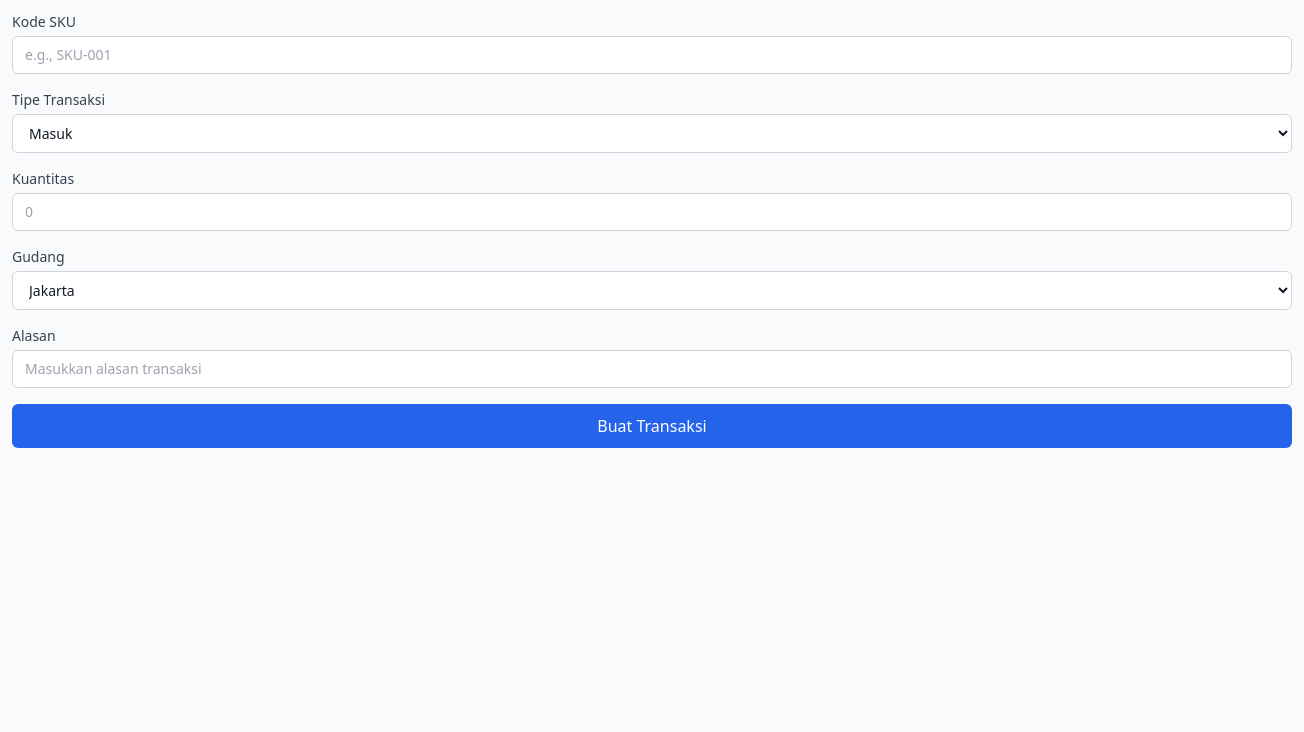
Test: TransactionForm › should validate required fields
Click the button "Buat Transaksi" at coordinates (652, 426), box x1=12 y1=404 x2=1292 y2=448
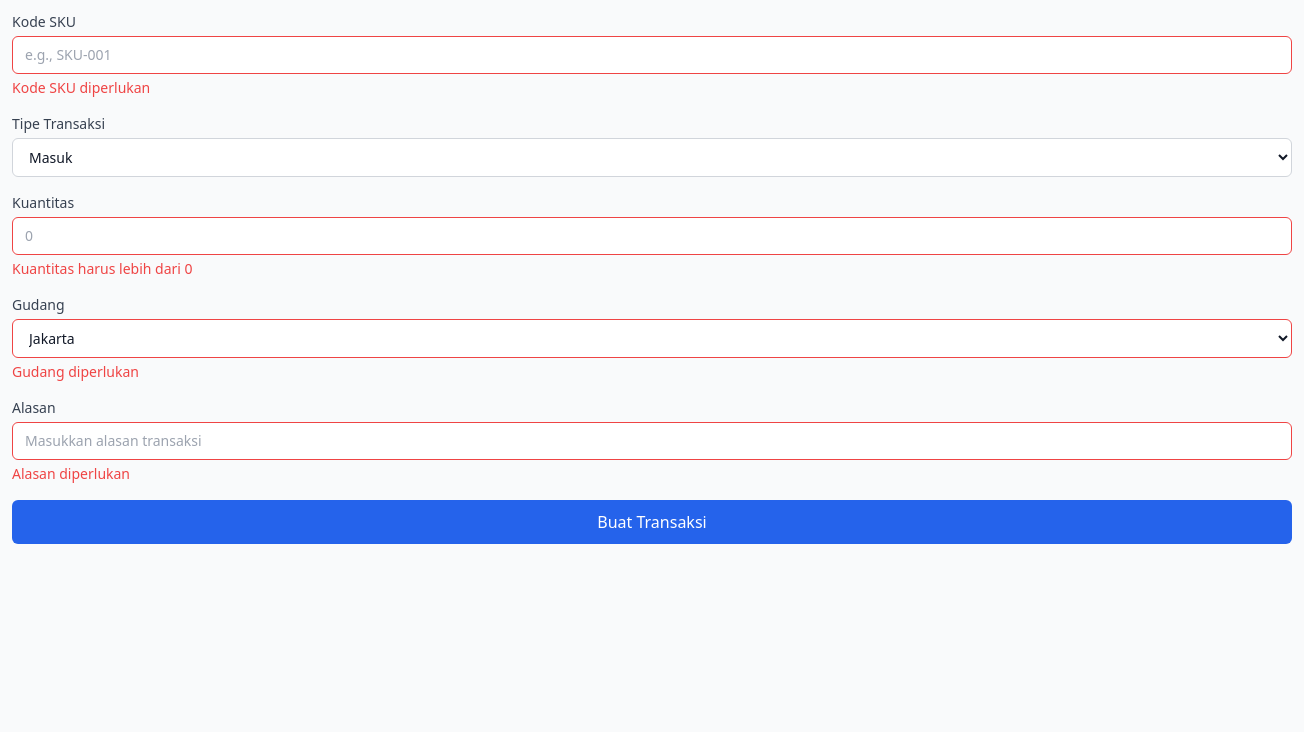
Result: the text "Kode SKU diperlukan" is shown at x1=12 y1=78 x2=150 y2=97
